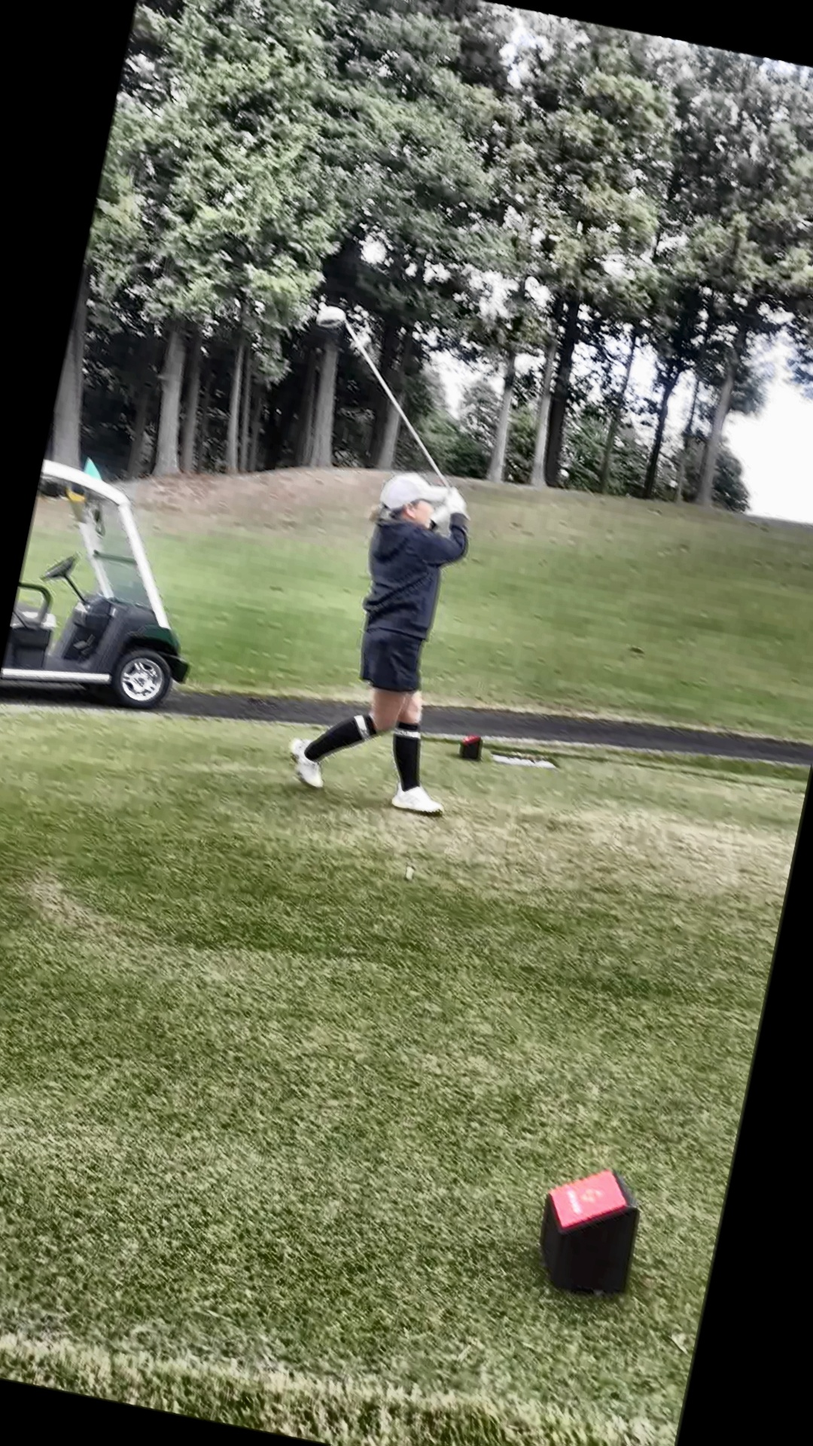clubhead: (255, 249, 429, 410)
